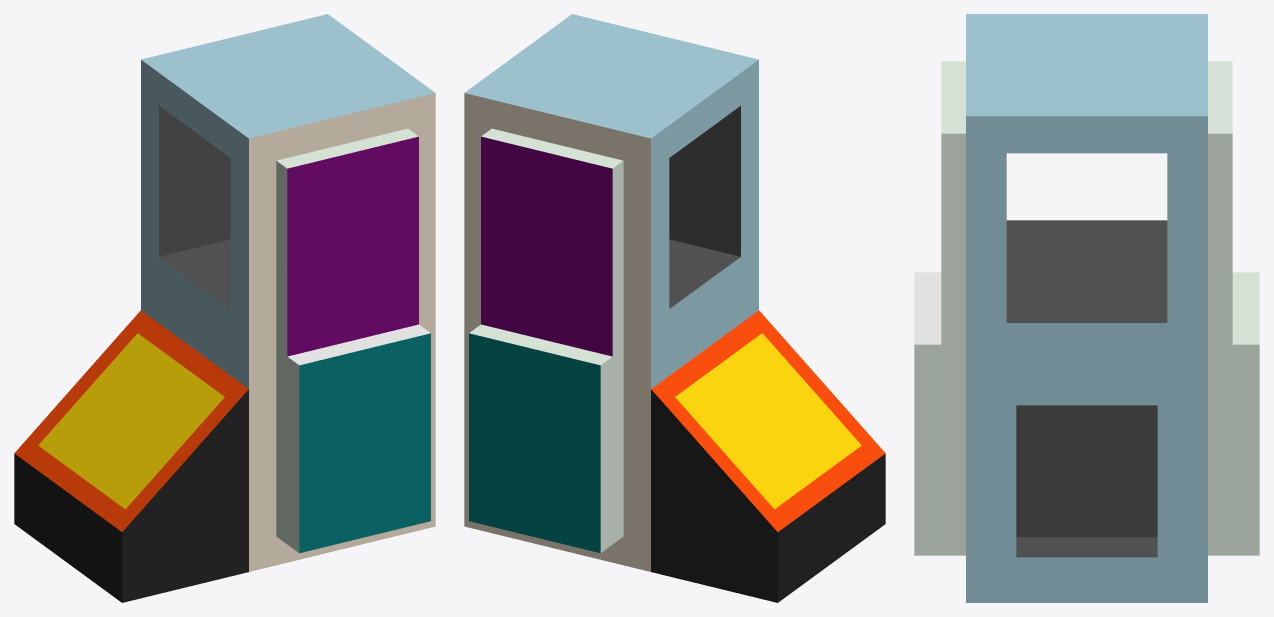
Rendered from Borne.dae.
The picture shows the model from 3 angles, left to right: view 1: azimuth 30°, elevation 25°; view 2: azimuth 150°, elevation 25°; view 3: azimuth 270°, elevation 25°; orthographic projection. The views are drawn at different scales.
Parts seen in each view (by area): view 1: SketchUp (×10); view 2: SketchUp (×9); view 3: SketchUp (×6).
Boxes of the visible parts, x1,y1,x2,y2 form: SketchUp (×10): [14, 14, 435, 602]; SketchUp (×9): [464, 14, 885, 602]; SketchUp (×6): [914, 14, 1259, 602].
Bounding box in the file's own units: 751 × 638 × 993.
